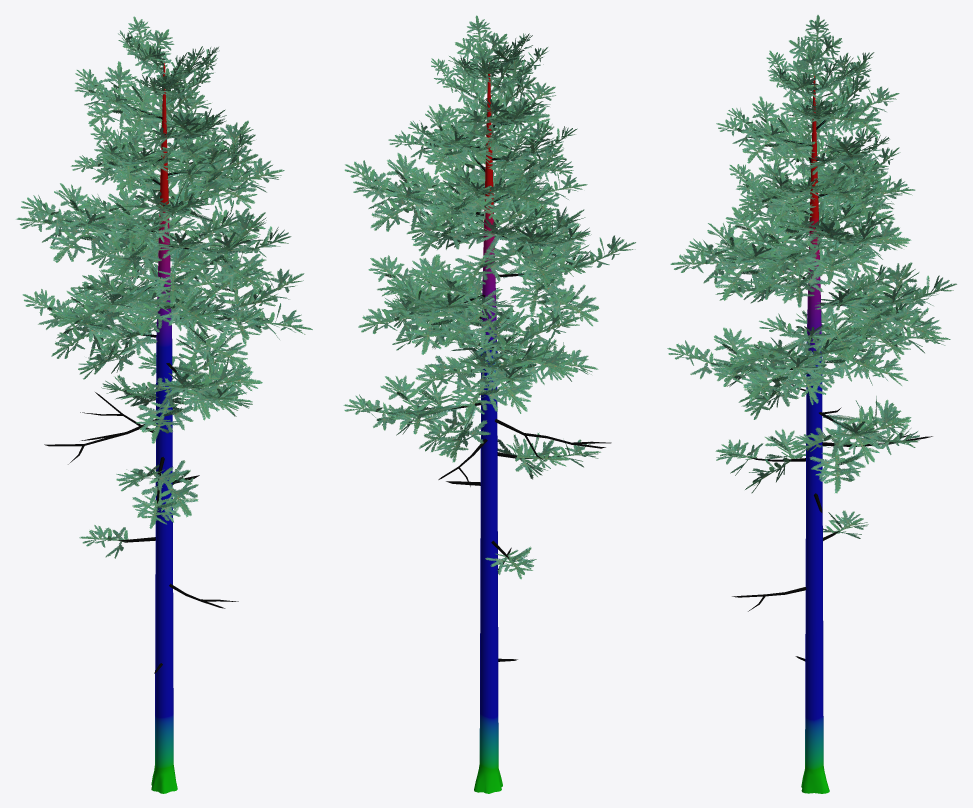
Rendered from MS_ConiferA04.fbx.
The picture shows the model from 3 angles, left to right: view 1: azimuth 30°, elevation 25°; view 2: azimuth 150°, elevation 25°; view 3: azimuth 270°, elevation 25°; orthographic projection.
Visible parts, largest first — view 1: MS_ConiferA04; view 2: MS_ConiferA04; view 3: MS_ConiferA04.
Boxes of the visible parts, x1,y1,x2,y2 form: MS_ConiferA04: [16, 16, 312, 793]; MS_ConiferA04: [343, 15, 635, 793]; MS_ConiferA04: [667, 15, 956, 793].
Bounding box in the file's own units: 747 × 2165 × 760.
